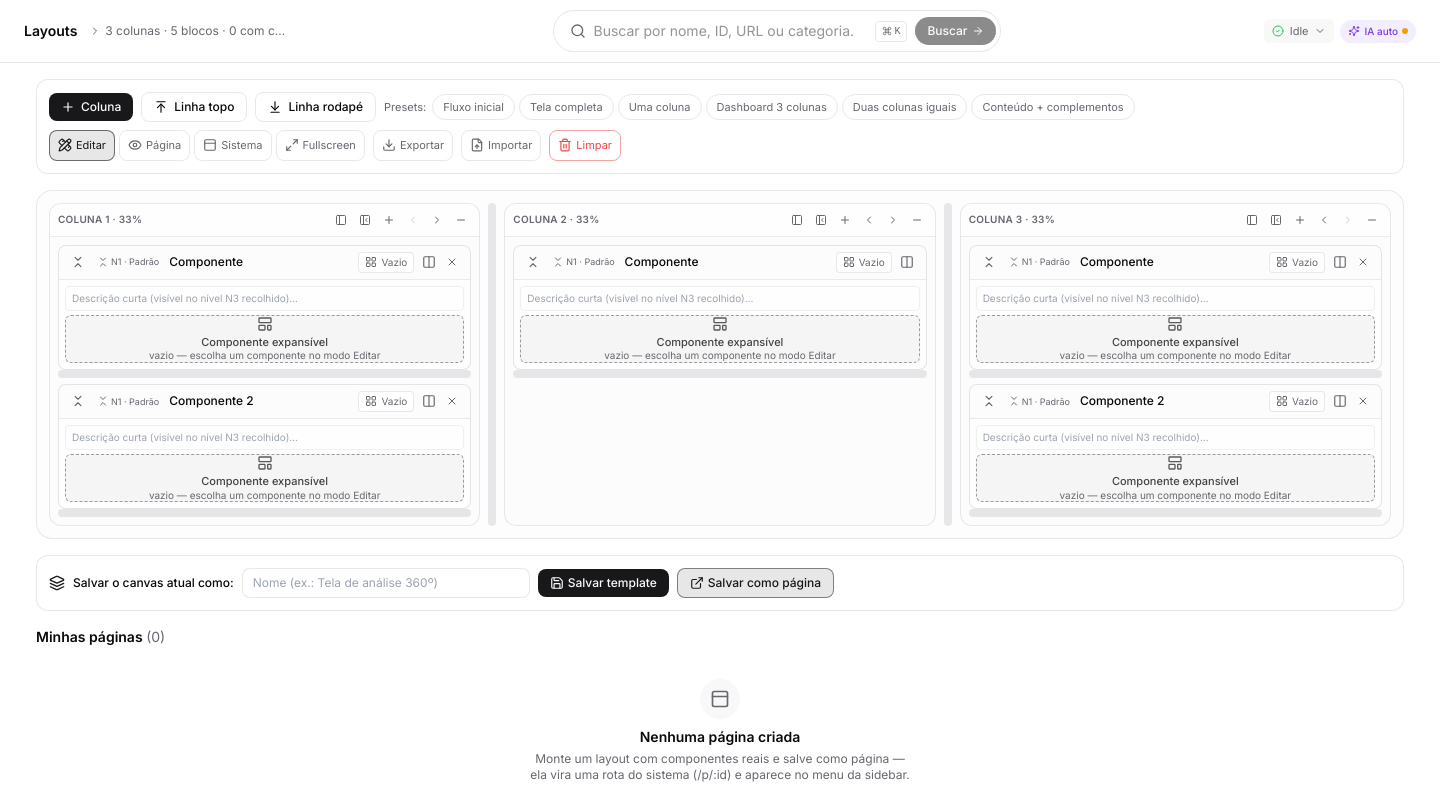
LayoutBuilder (UI) › coluna pode ser dividida horizontalmente (+ 1 bloco) pela UI
The width and height of the screenshot is (1440, 810).
Click the button named "Dividir Coluna 2": (845,220) [835,210,855,230]
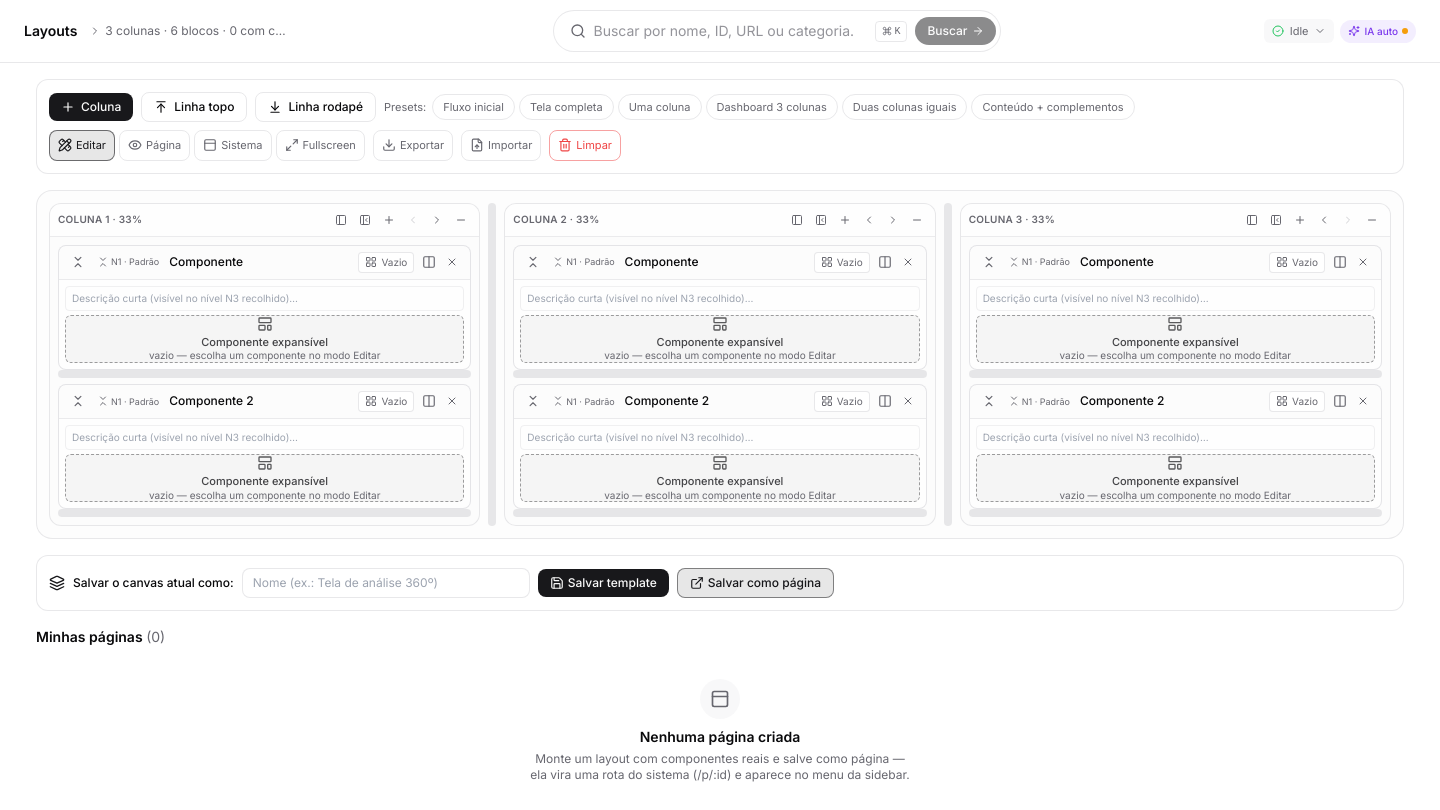
Expected: the text "Componente expansível" is shown 6 times, [201,334,328,348]; [201,474,328,488]; [657,334,783,348]; [657,474,783,488]; [1112,334,1239,348]; [1112,474,1239,488]
